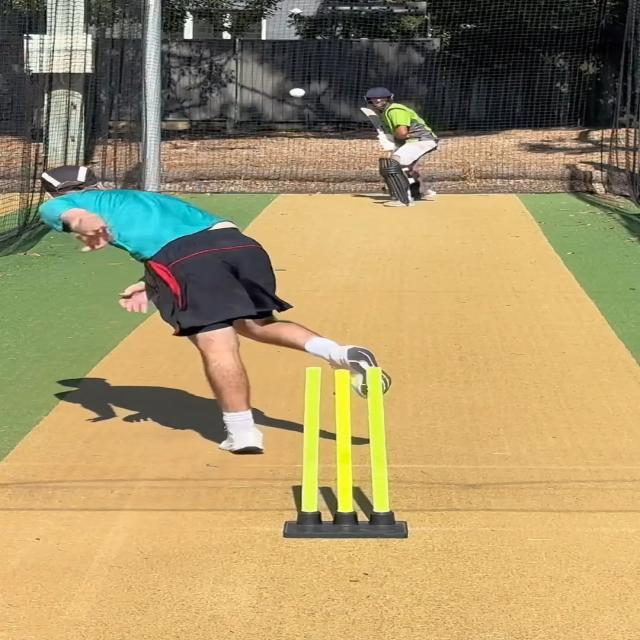ball: (287, 87, 307, 99)
stump: (283, 366, 406, 539)
